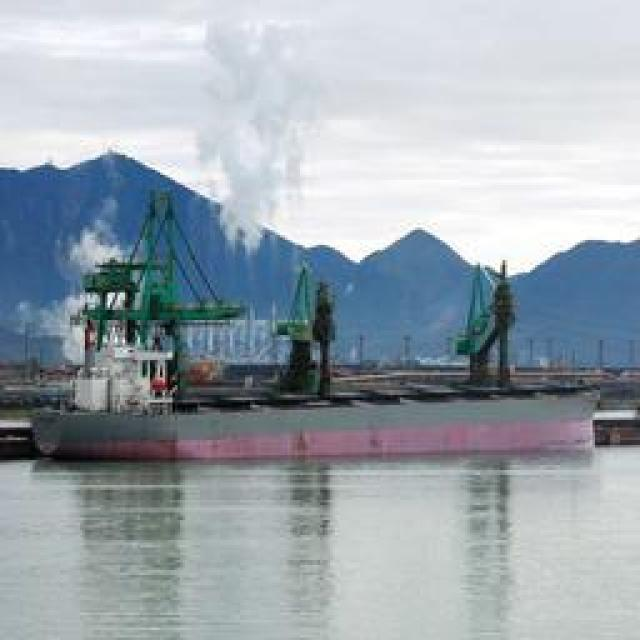ship2: (32, 257, 603, 462)
